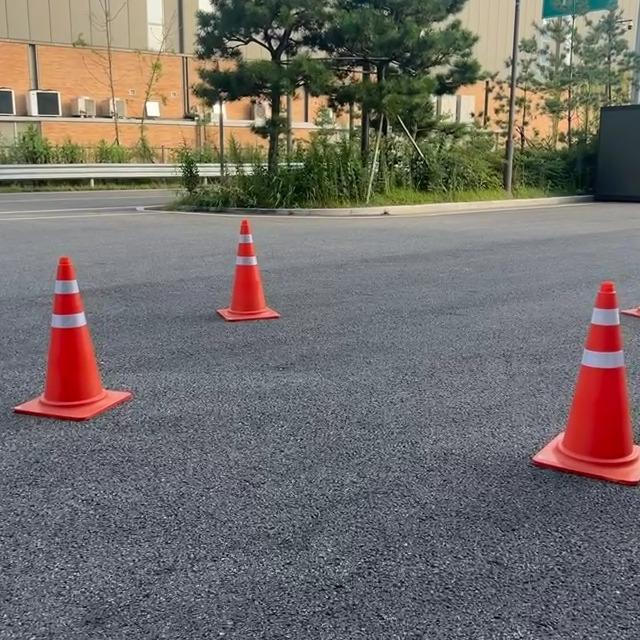fallen_object: (537, 260, 640, 522), (13, 236, 132, 456), (201, 176, 315, 378)
